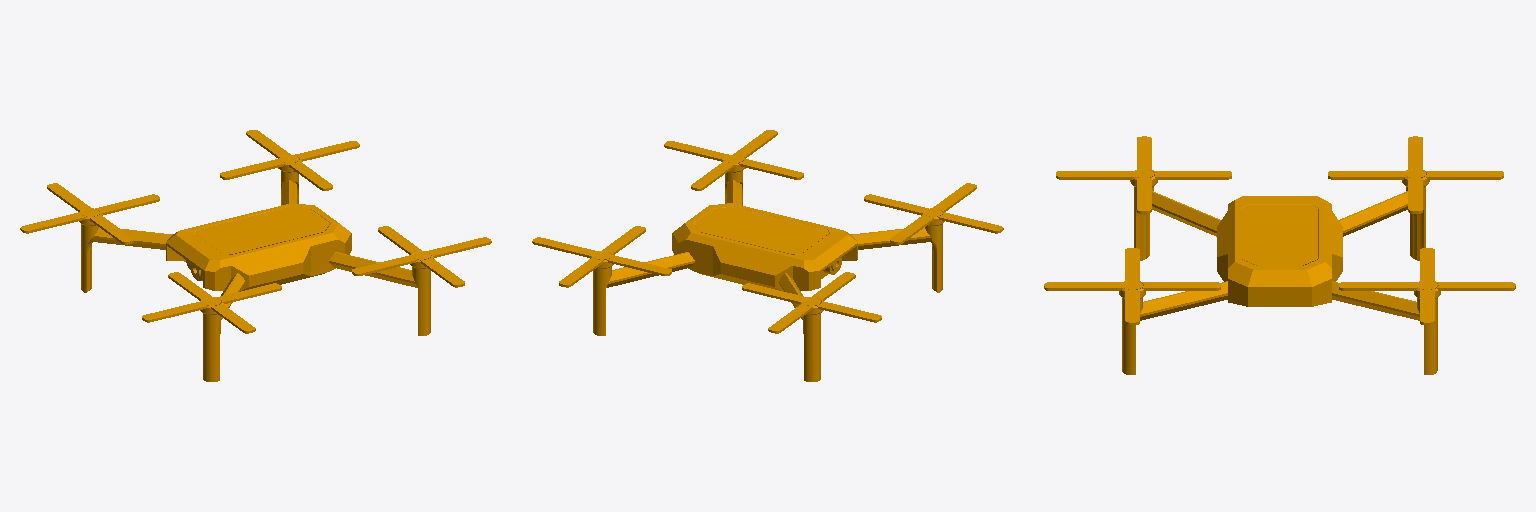
robot.urdf — quadrotor:
<?xml version="1.0" ?>

<!-- adapted from [author], [author], [author], "Trajectory Generation and Control for Precise Aggressive Maneuvers with Quadrotors" -->

<robot xmlns="http://drake.mit.edu"
 xmlns:xsi="http://www.w3.org/2001/XMLSchema-instance"
 xsi:schemaLocation="http://drake.mit.edu ../../../../pods/drake/doc/drakeURDF.xsd" name="quadrotor">
  <link name="base_link">
    <inertial>
      <mass value="0.5"/>
      <origin xyz="0 0 0"/>
      <inertia ixx="0.0023" ixy="0.0" ixz="0.0" iyy="0.0023" iyz="0.0" izz="0.004"/>
    </inertial>
    <visual>
      <origin rpy="0 0 0" xyz="0 0 0"/>
      <geometry>
        <mesh filename="drone.stl" scale="1 1 1"/>
      </geometry>
    </visual>
    <!-- note: the original hector quadrotor urdf had a (simplified, but still complex) collision mesh, too -->
    <collision>
      <origin rpy="0 0 0" xyz="0 0 0"/>
      <geometry>
        <mesh filename="drone.stl" scale="1 1 1"/>
      </geometry>
    </collision>      
  </link>
  <frame link="base_link" name="body" rpy="0 0 0" xyz="0 0 0" />
  <force_element name="prop1">
    <propellor lower_limit="0" upper_limit="10" scale_factor_thrust="1.0" scale_factor_moment="0.0245">
      <parent link="base_link"/>
      <origin xyz=".1750 0 0"/>
      <axis xyz="0 0 1"/>
    </propellor>
  </force_element>

  <force_element name="prop2">
    <propellor lower_limit="0" upper_limit="10" scale_factor_thrust="1.0" scale_factor_moment="-0.0245">
      <parent link="base_link"/>
      <origin xyz="0 .1750 0 "/>
      <axis xyz="0 0 1"/>
    </propellor>
  </force_element>
  
  <force_element name="prop3">
    <propellor lower_limit="0" upper_limit="10" scale_factor_thrust="1.0" scale_factor_moment="0.0245">
      <parent link="base_link"/>
      <origin xyz="-.1750 0 0"/>
      <axis xyz="0 0 1"/>
    </propellor>
  </force_element>
  
  <force_element name="prop4">
    <propellor lower_limit="0" upper_limit="10" scale_factor_thrust="1.0" scale_factor_moment="-0.0245">
      <parent link="base_link"/>
      <origin xyz="0 -.1750 0"/>
      <axis xyz="0 0 1"/>
    </propellor>
  </force_element>
  
</robot>

--- What the picture shows (computed from the rendered views, not written in the file) ---
3 views of the same robot in one strip: view 1: azimuth 30°, elevation 25°; view 2: azimuth 150°, elevation 25°; view 3: azimuth 270°, elevation 25° (orthographic).
Model quadrotor with 1 links and 0 joints (none), rooted at base_link, posed every joint at zero.
Visible links, largest first — view 1: base_link; view 2: base_link; view 3: base_link.
Link boxes in pixels (x1,y1,x2,y2): base_link: [20, 130, 491, 381]; base_link: [532, 130, 1003, 381]; base_link: [1044, 136, 1515, 374].
Size in the robot's own frame: 0.29 by 0.3103 by 0.0625 metres.
Meshes: 1 distinct files referenced, 1 mesh visuals loaded (1 binary STL).
